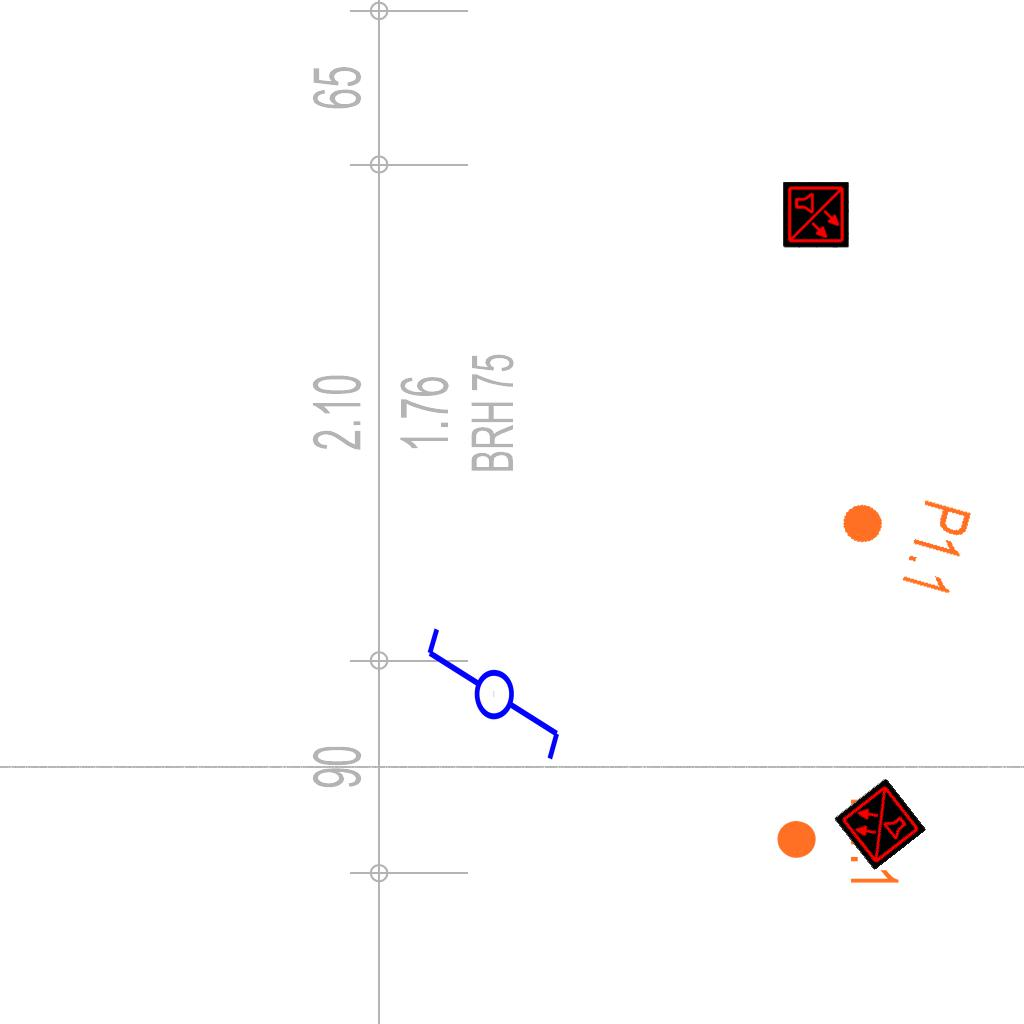Downlight_LED_Einbauleuchten_Flur: (827, 475, 976, 601), (774, 796, 902, 889)
OKW_Multisensormelder_(Kombination_optischer_Rauch-Kahlenmonoxid_Waerme-Melder): (833, 777, 927, 871), (783, 182, 849, 248)
Wechselschalter: (420, 624, 564, 781)
